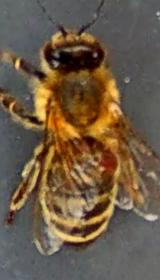varroa_mite: (92, 136, 122, 180)
